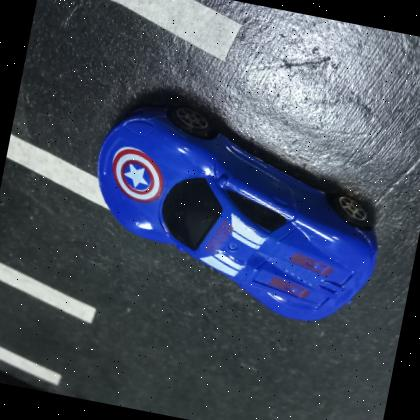Car: (97, 102, 379, 320)
